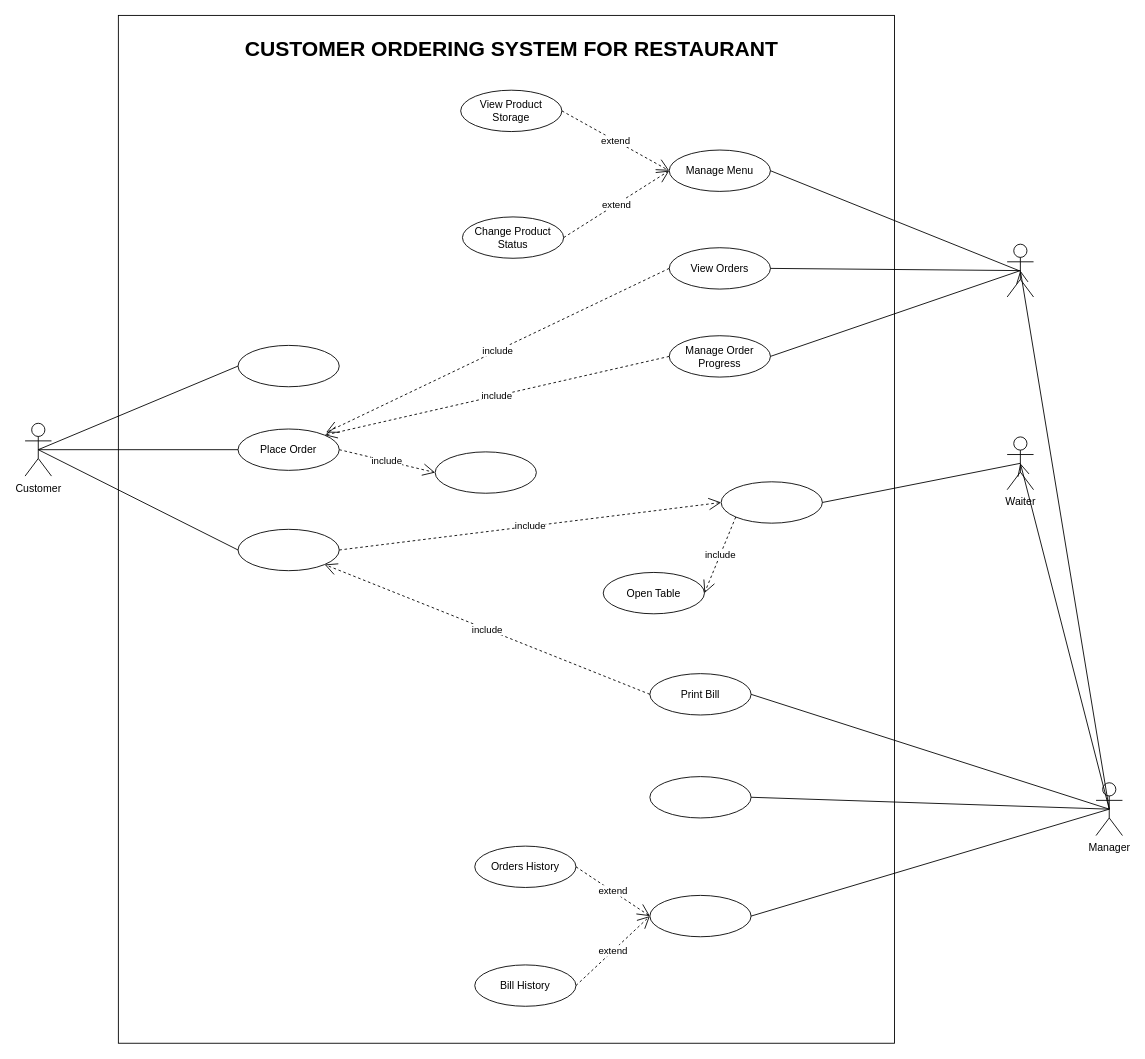
The diagram is 1145 pixels wide and 1059 high, and some of its shapes have lost their labels. Here are the shapes that lost their labels. From the top down, the centre of each, then its label:
At (1020,270): "Chef".
At (288,366): "View Menu".
At (485,472): "Select Product".
At (771,502): "Create Bill".
At (288,549): "Finish Bill".
At (700,797): "Summarize Revenue".
At (700,916): "View History".
